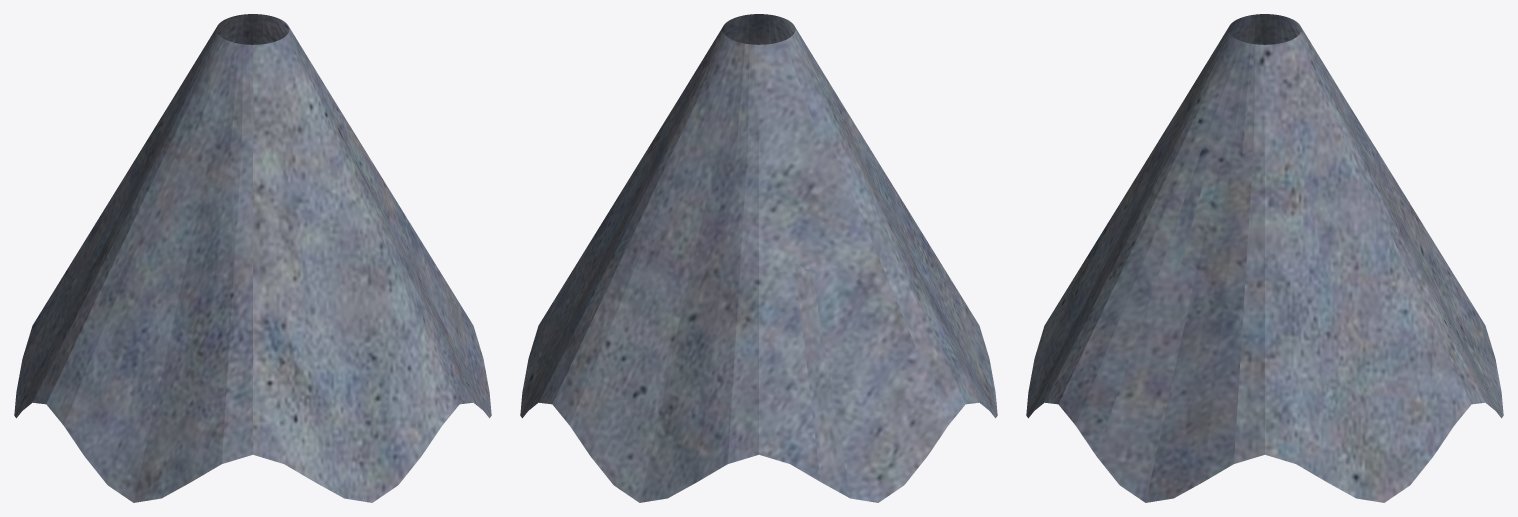
File: smoke mountains.dae
3 renders of one model, left to right at view 1: azimuth 30°, elevation 25°; view 2: azimuth 150°, elevation 25°; view 3: azimuth 270°, elevation 25°, orthographic.
Visible parts, largest first — view 1: Torus; view 2: Torus; view 3: Torus.
Boxes of the visible parts, left/top/right/bottom form: Torus: left=14, top=14, right=491, bottom=502; Torus: left=520, top=14, right=997, bottom=502; Torus: left=1026, top=14, right=1503, bottom=502.
Bounding box in the file's own units: 0.3827 × 0.3827 × 0.3416.
Materials: 1 (1 with a texture image).
